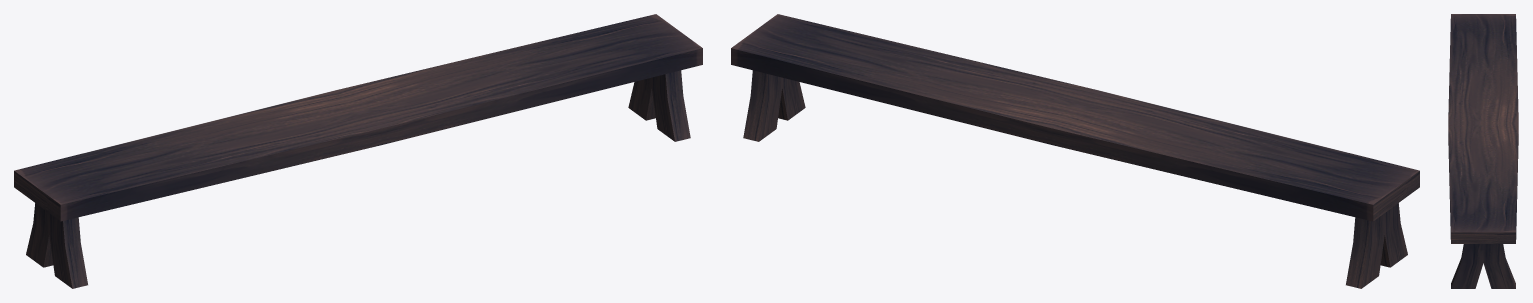
The model's file is Bench_1x3.fbx.
3 renders of one model, left to right at view 1: azimuth 30°, elevation 25°; view 2: azimuth 150°, elevation 25°; view 3: azimuth 270°, elevation 25°, orthographic. The views are drawn at different scales.
Parts seen in each view (by area): view 1: Bench_1x3; view 2: Bench_1x3; view 3: Bench_1x3.
Boxes of the visible parts, <box> form: Bench_1x3: <box>14,14,702,288</box>; Bench_1x3: <box>731,14,1419,288</box>; Bench_1x3: <box>1448,14,1518,288</box>.
Bounding box in the file's own units: 0.9399 × 0.1217 × 0.1282.
